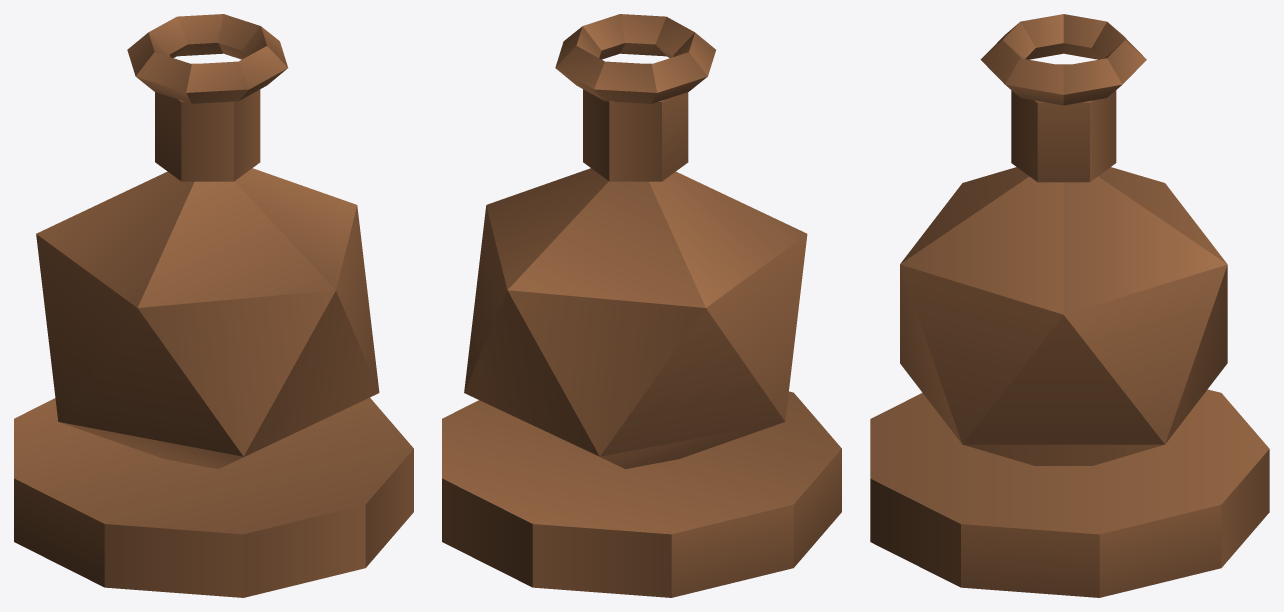
The model's file is jingle_bell.fbx.
The picture shows the model from 3 angles, left to right: view 1: azimuth 30°, elevation 25°; view 2: azimuth 150°, elevation 25°; view 3: azimuth 270°, elevation 25°; orthographic projection.
Parts seen in each view (by area): view 1: jingle_bell; view 2: jingle_bell; view 3: jingle_bell.
Part boxes in pixels (x1,y1,x2,y2): jingle_bell: [14, 14, 413, 597]; jingle_bell: [442, 14, 841, 597]; jingle_bell: [870, 14, 1269, 597].
Bounding box in the file's own units: 38.9 × 50 × 38.3.
